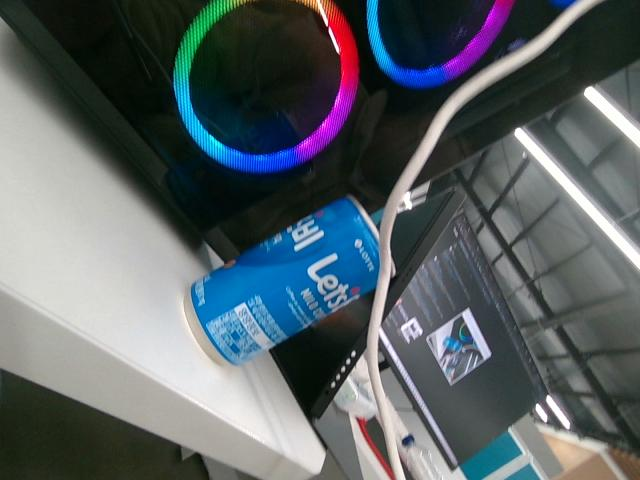letsbe: (182, 193, 384, 368)
